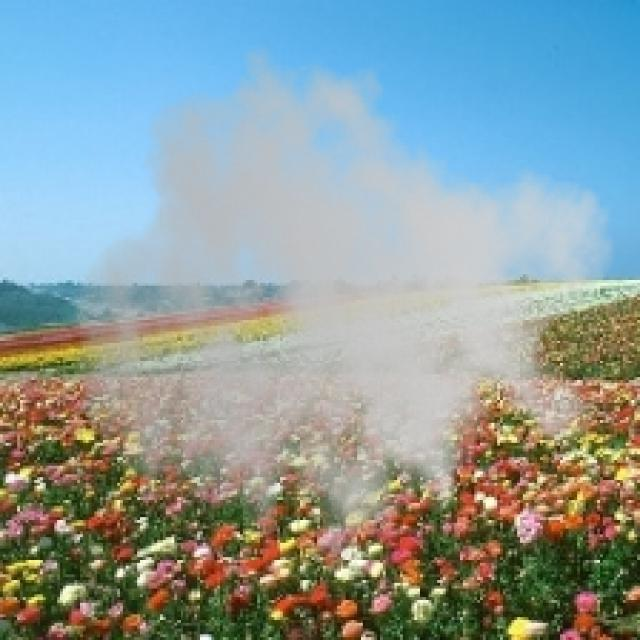smoke: (72, 32, 617, 597)
